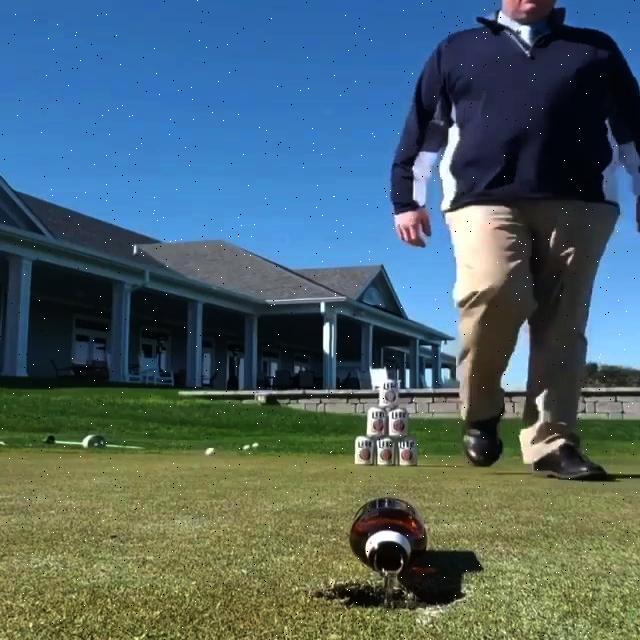golf ball: (205, 448, 214, 454), (242, 445, 249, 451), (252, 443, 259, 448)
